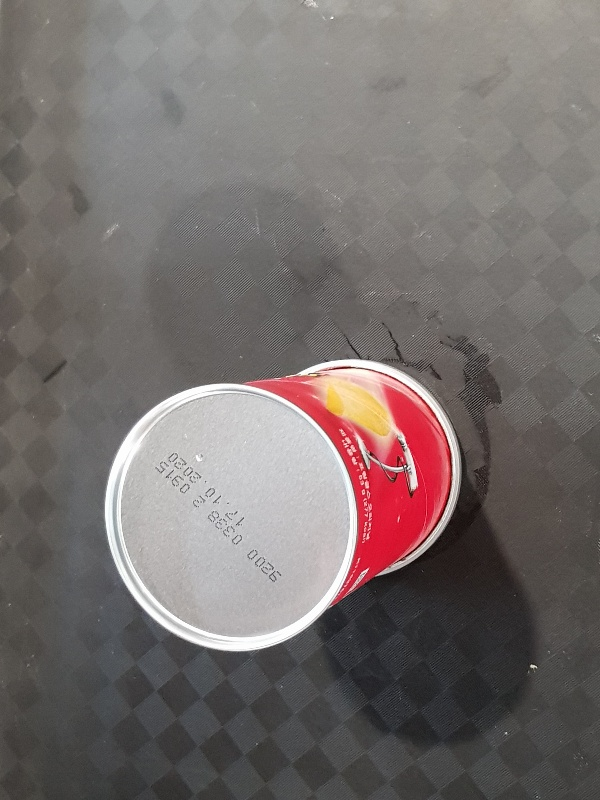Pringles Original: (102, 357, 461, 654)
